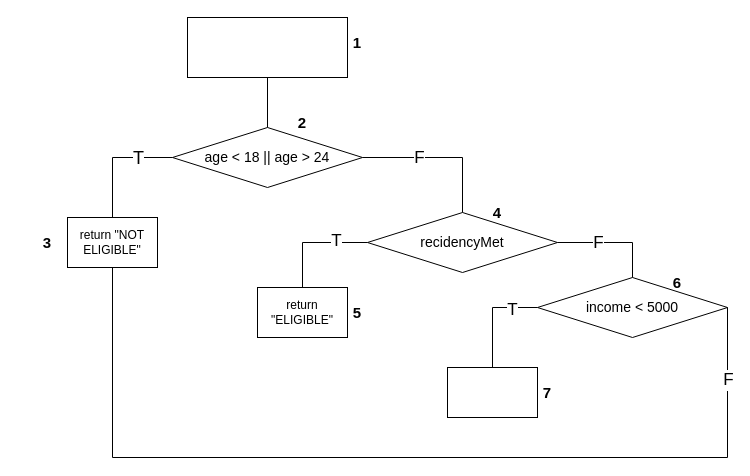
Image size: 750x476. Some labels were removed from this diagram. The box of each missing label's shape, as (x1, y1, x2, y2) in pixels:
evaluateEgibility(): (186, 16, 348, 78)
return "DEFER TO DEAN": (446, 366, 538, 418)
